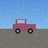vehicle: (13, 19, 36, 33)
